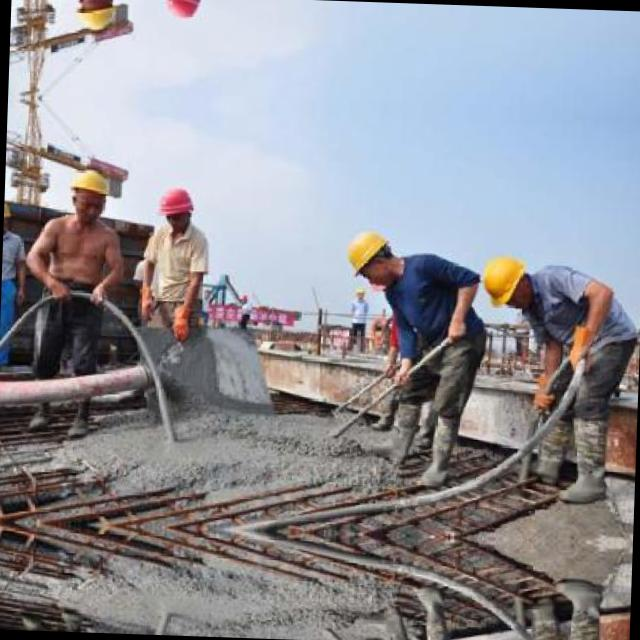helmet: (336, 220, 404, 288), (474, 248, 536, 310), (64, 163, 114, 220), (154, 180, 196, 234), (70, 0, 120, 34), (161, 0, 203, 23)
